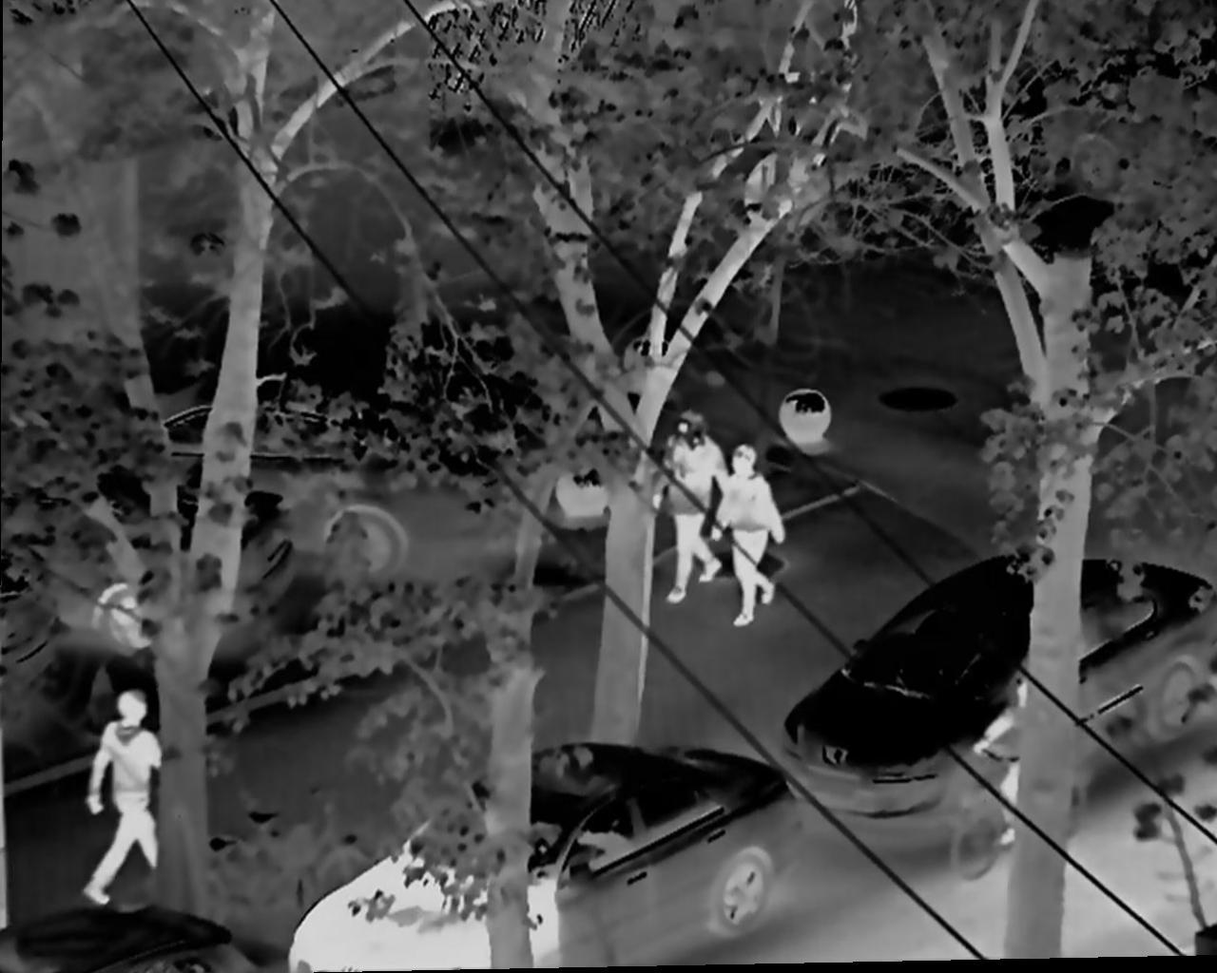person: (81, 688, 179, 904), (709, 436, 786, 634), (649, 408, 720, 609)
